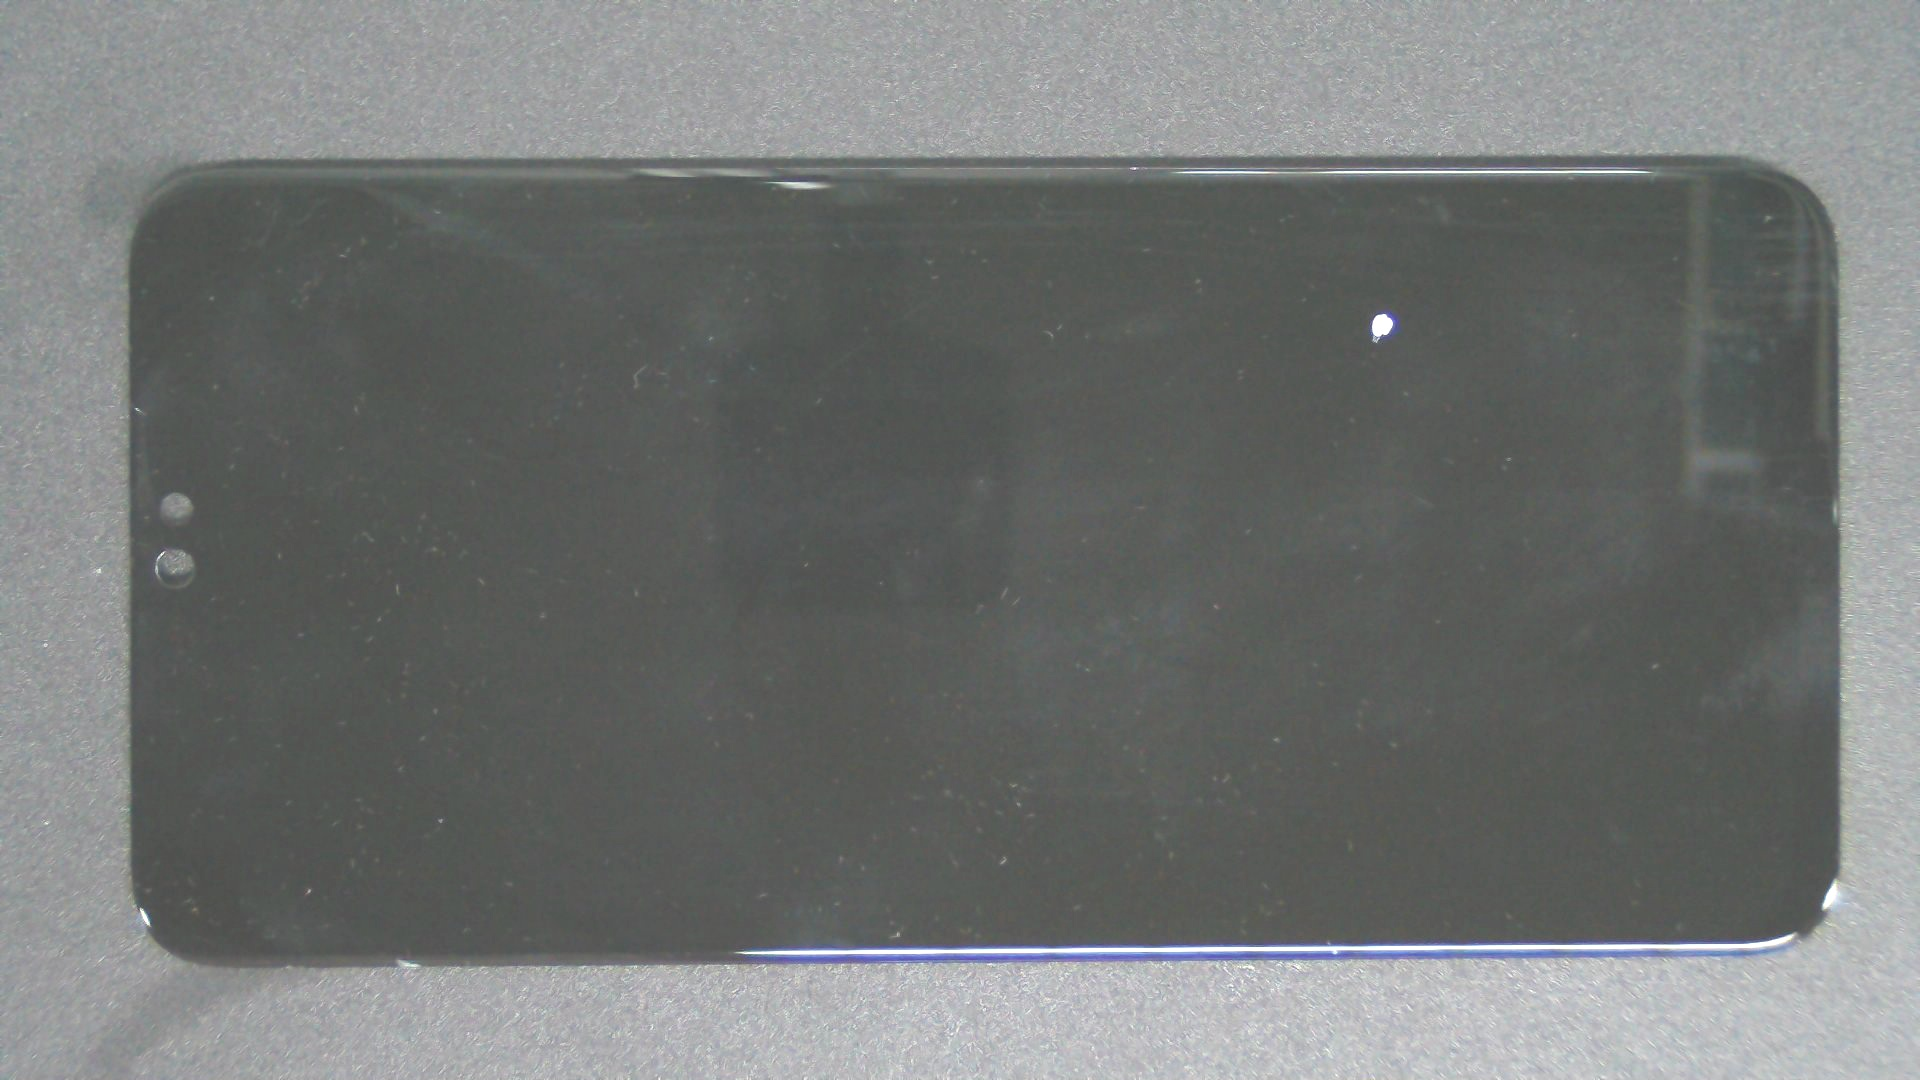oil: (691, 156, 1920, 469)
